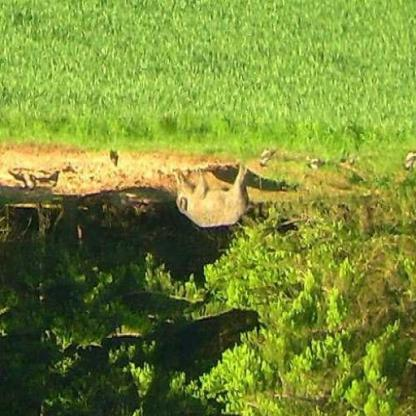boar: (155, 153, 263, 236)
